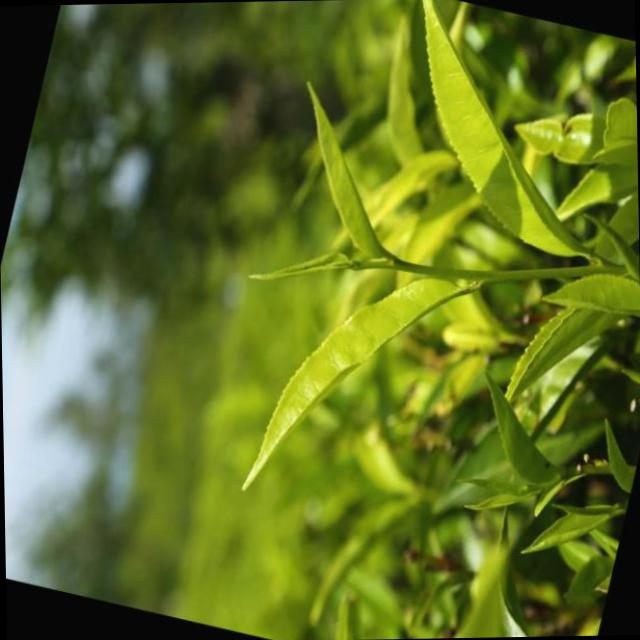Stem: (386, 254, 405, 271)
